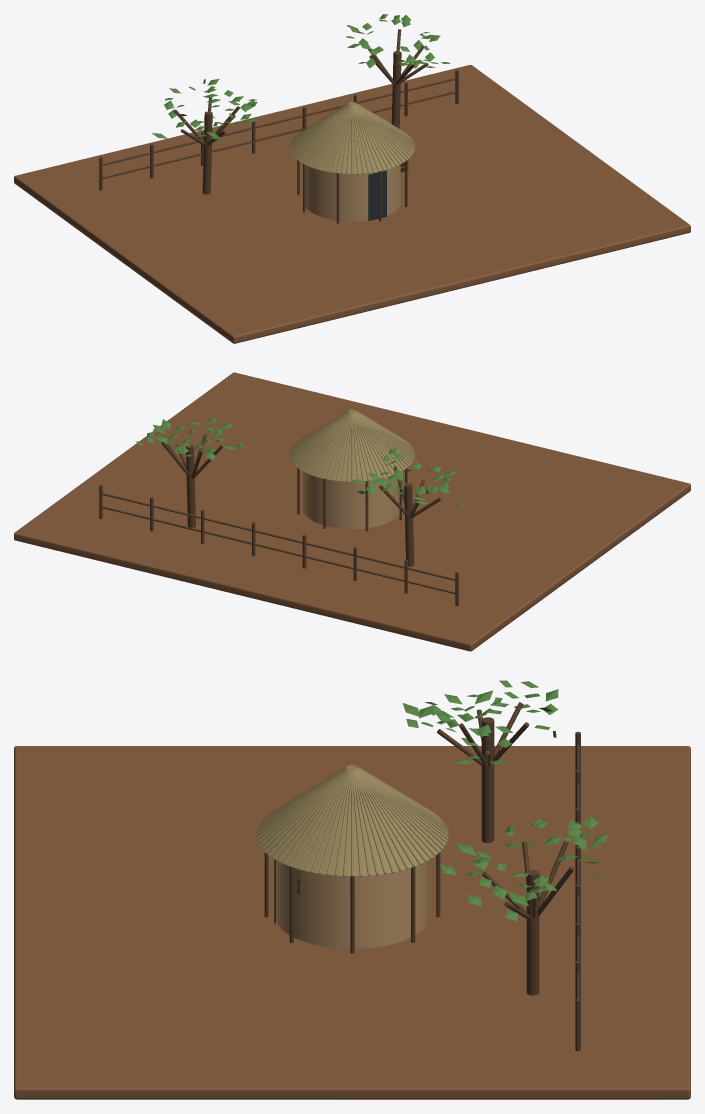
File: rural-hut.glb
The picture shows the model from 3 angles, top to bottom: view 1: azimuth 30°, elevation 25°; view 2: azimuth 150°, elevation 25°; view 3: azimuth 270°, elevation 25°; orthographic projection. The views are drawn at different scales.
Parts seen in each view (by area): view 1: Earth plot, Round earthen wall, Conical thatch roof, Fence rail.001, Dark doorway, Fence rail, Trunk, Trunk.001; view 2: Earth plot, Round earthen wall, Conical thatch roof, Fence rail.001, Fence rail, Trunk, Trunk.001; view 3: Earth plot, Round earthen wall, Conical thatch roof, Trunk, Trunk.001.
Boxes of the visible parts, x1=… form: Earth plot: x1=14, y1=65, x2=690, y2=343; Round earthen wall: x1=302, y1=164, x2=402, y2=221; Conical thatch roof: x1=290, y1=102, x2=414, y2=173; Fence rail.001: x1=102, y1=77, x2=456, y2=165; Dark doorway: x1=368, y1=170, x2=386, y2=220; Fence rail: x1=102, y1=91, x2=456, y2=178; Trunk: x1=202, y1=111, x2=212, y2=194; Trunk.001: x1=391, y1=51, x2=401, y2=128; Earth plot: x1=14, y1=372, x2=690, y2=651; Round earthen wall: x1=302, y1=471, x2=402, y2=528; Conical thatch roof: x1=290, y1=410, x2=414, y2=481; Fence rail.001: x1=101, y1=493, x2=455, y2=580; Fence rail: x1=101, y1=506, x2=455, y2=594; Trunk: x1=404, y1=483, x2=414, y2=566; Trunk.001: x1=186, y1=444, x2=195, y2=527; Earth plot: x1=14, y1=746, x2=690, y2=1099; Round earthen wall: x1=276, y1=860, x2=429, y2=948; Conical thatch roof: x1=257, y1=766, x2=447, y2=876; Trunk: x1=481, y1=717, x2=494, y2=842; Trunk.001: x1=526, y1=870, x2=539, y2=995.
Bounding box in the file's own units: 18 × 4.12 × 15.
7 materials, 1 textured.
